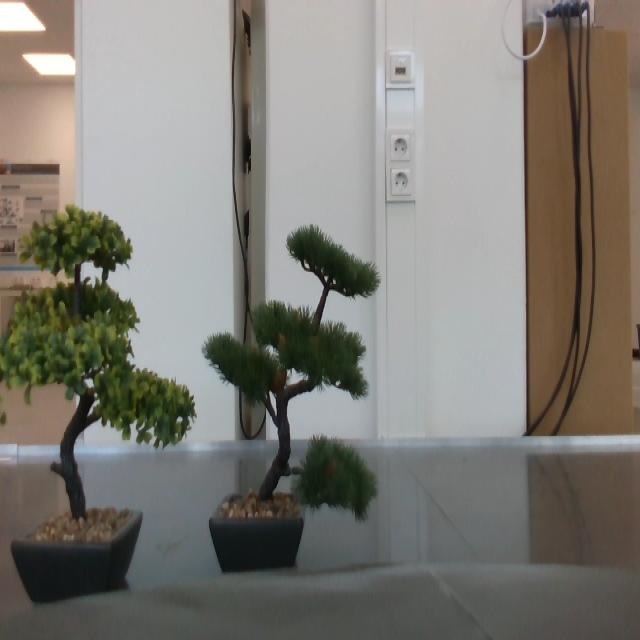potted plant: (1, 203, 196, 572), (203, 226, 380, 566)
